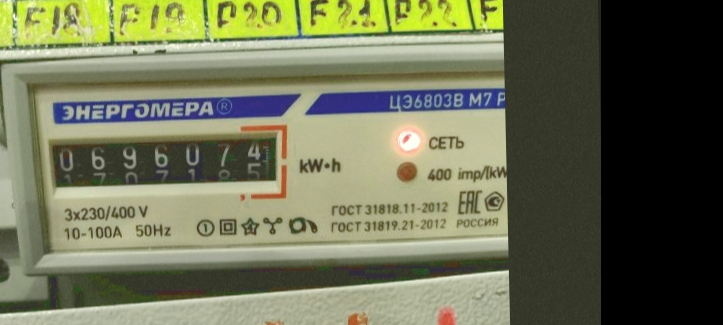0: (55, 146, 75, 172), (182, 141, 200, 167)
4: (244, 138, 260, 161)
5: (244, 161, 261, 182)
6: (150, 141, 169, 169), (87, 145, 106, 170)
7: (214, 141, 231, 167)
9: (119, 143, 136, 169)
screen: (37, 122, 291, 207)
